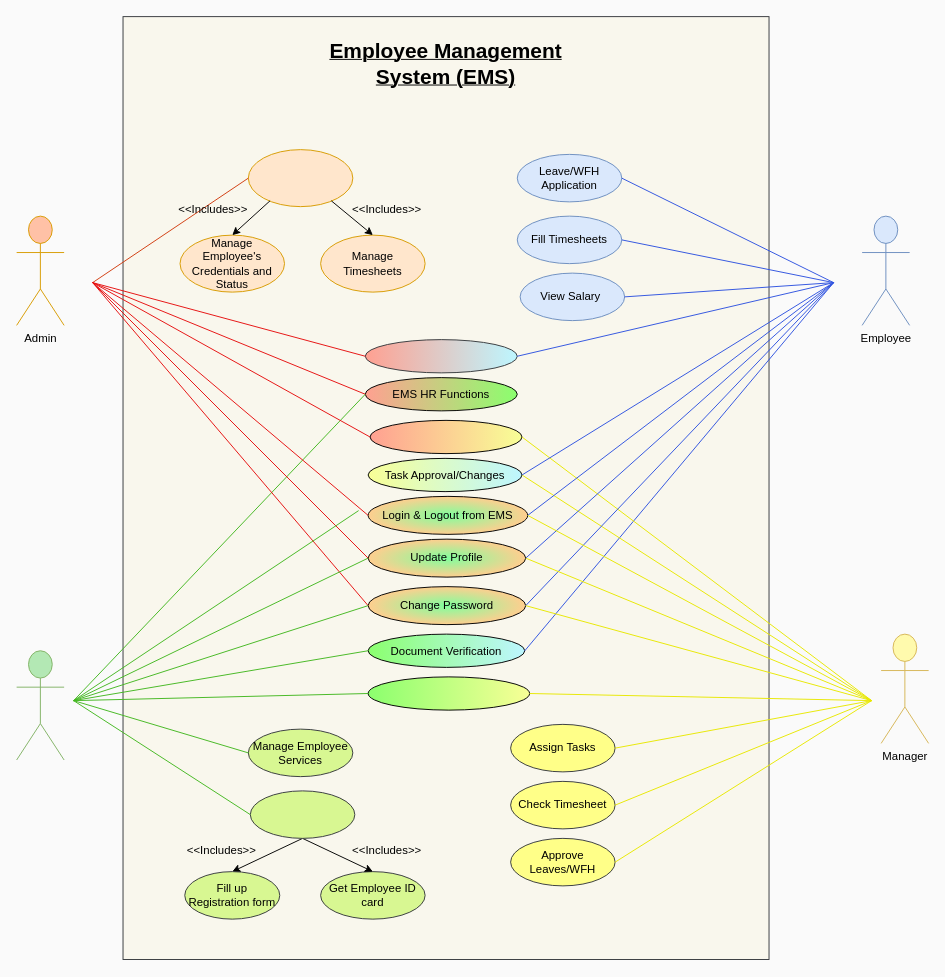
This 945x977 diagram has some shape labels left out. The centre of each missing label's shape, as x and y in pixels:
"EMS Manager Functions" belongs at (445,436).
"Generate Employee Report" belongs at (448,693).
"HR" belongs at (40,705).
"Manage Employee's Management System" belongs at (300,178).
"Register New Employee" belongs at (302,814).
"Timesheet Unlock" belongs at (440,356).
